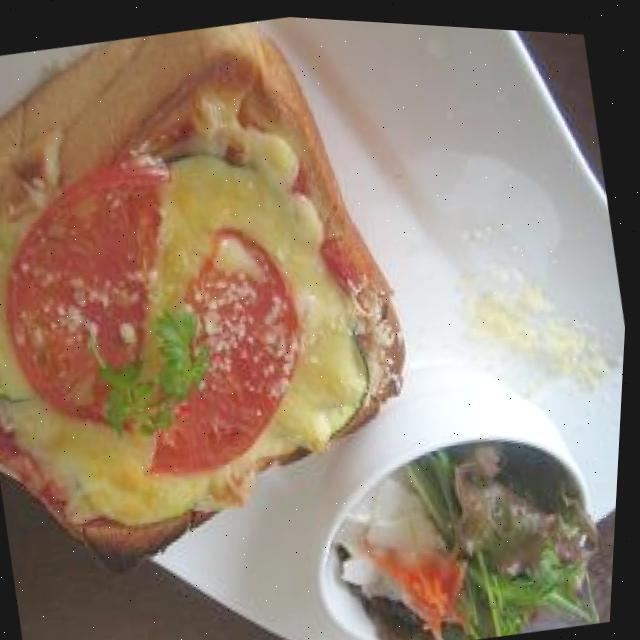面包点心: (0, 0, 471, 581)
